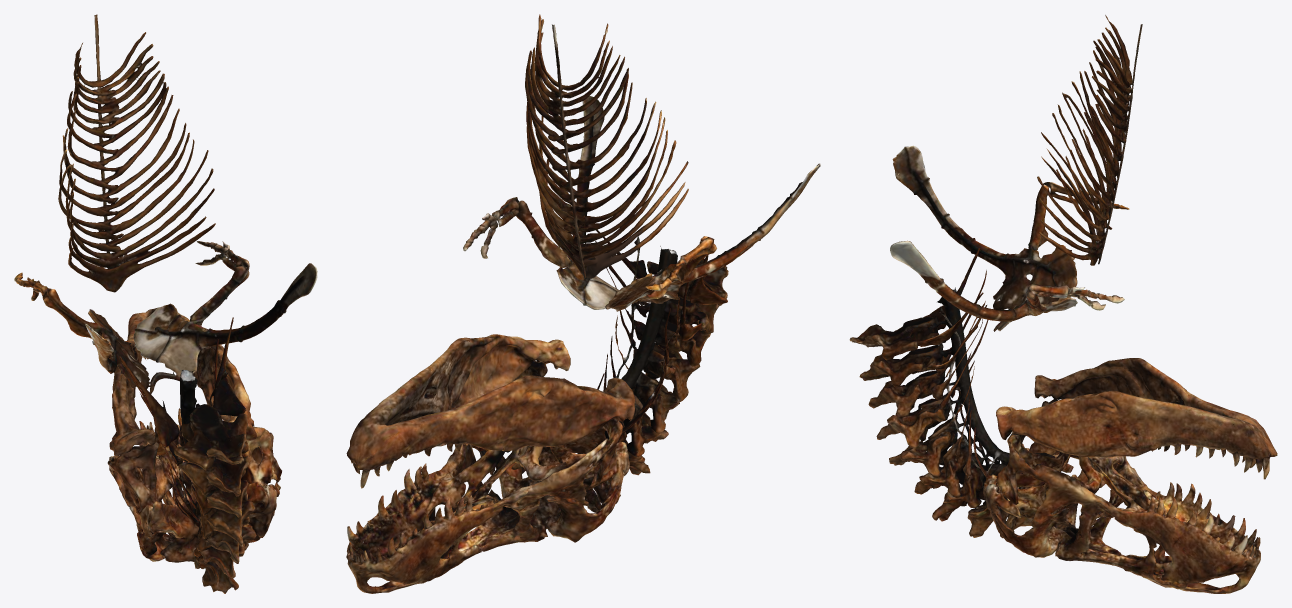
The model's file is trex-p4-low.glb.
The picture shows the model from 3 angles, left to right: view 1: azimuth 30°, elevation 25°; view 2: azimuth 150°, elevation 25°; view 3: azimuth 270°, elevation 25°; orthographic projection. The views are drawn at different scales.
Size of the model in its own units: 1.55 by 2.94 by 2.21.
1 material, 1 textured.
